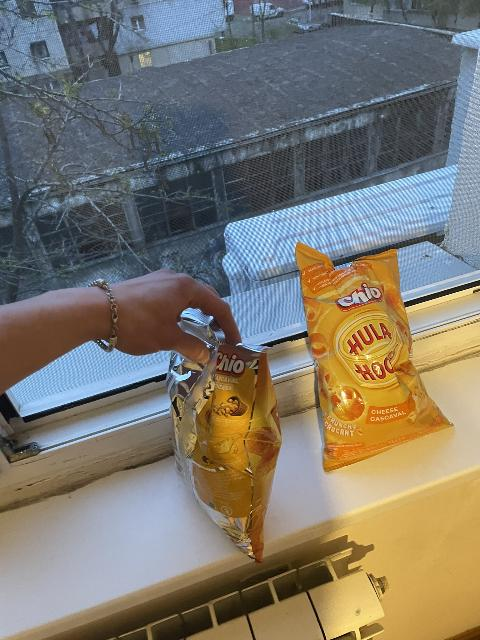Chio Cascaval 125g: (168, 314, 283, 566)
Chio Hula Hoops Cheese 70g: (298, 241, 456, 474)
